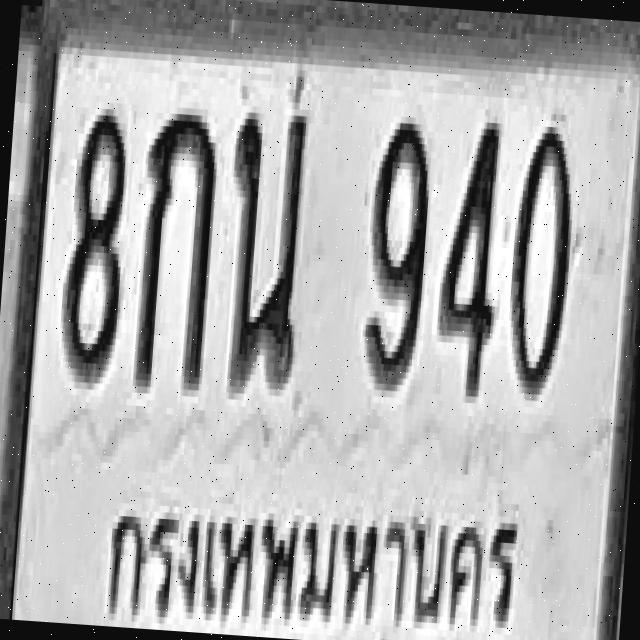0: (504, 118, 578, 396)
10GorGai: (132, 106, 220, 390)
34NorNu: (219, 105, 309, 390)
4: (434, 114, 506, 398)
8: (58, 103, 132, 381)
9: (362, 114, 434, 386)
Bangkok: (93, 460, 525, 640)
